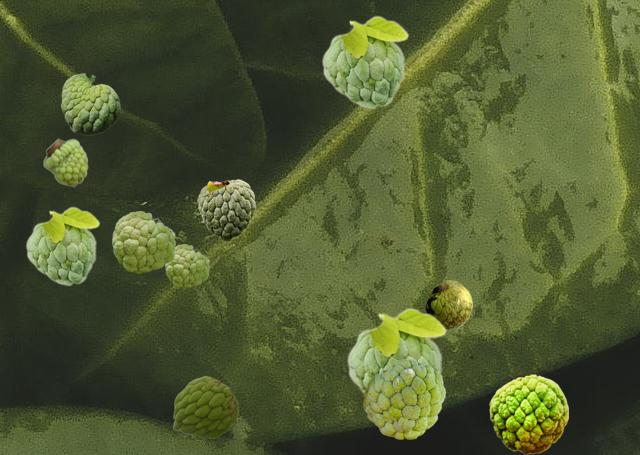atis: (346, 307, 446, 394), (321, 15, 408, 108), (363, 359, 444, 438), (489, 374, 567, 453), (25, 206, 99, 285), (173, 376, 237, 437), (112, 211, 174, 272), (61, 73, 119, 134), (197, 179, 254, 240), (425, 280, 471, 328), (43, 138, 87, 186), (165, 244, 208, 287)
